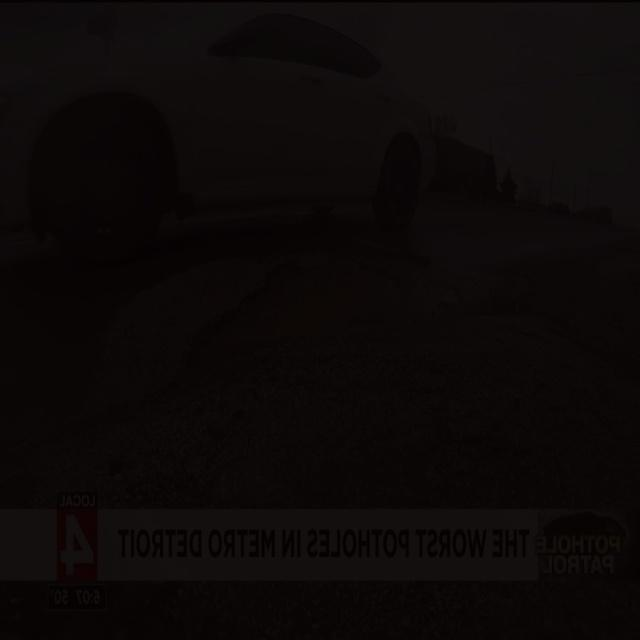Pothole: (155, 244, 409, 352)
